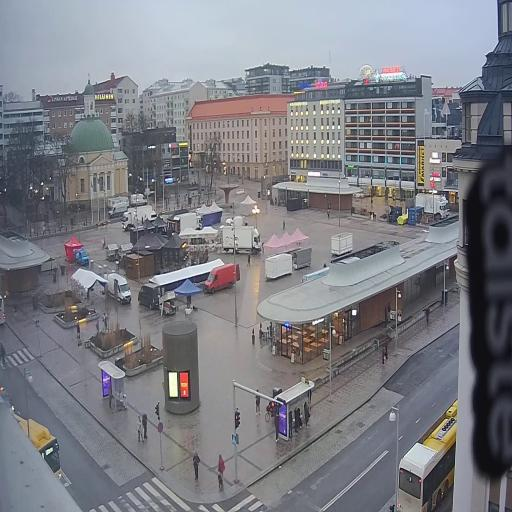bus: (390, 394, 460, 512), (12, 412, 66, 487), (0, 284, 9, 330)
car: (0, 383, 17, 417)
delivery: (219, 222, 264, 257), (202, 260, 240, 300), (412, 189, 448, 226), (121, 202, 160, 233), (136, 273, 164, 313), (172, 206, 203, 238), (104, 270, 133, 304), (106, 200, 130, 224), (74, 246, 92, 271), (129, 190, 148, 207)
two-wheels: (262, 396, 276, 426)
